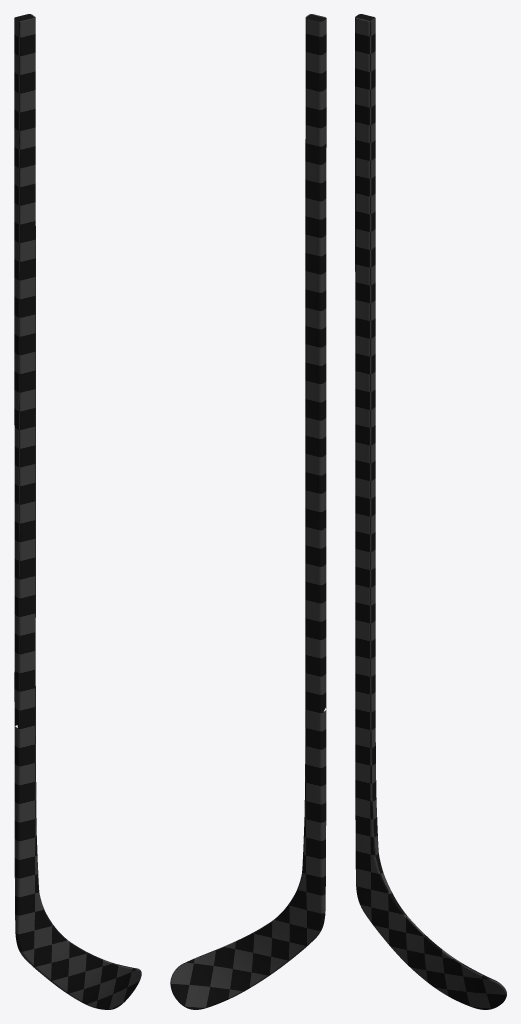
The picture shows the model from 3 angles, left to right: view 1: azimuth 30°, elevation 25°; view 2: azimuth 150°, elevation 25°; view 3: azimuth 330°, elevation 25°; orthographic projection. The views are drawn at different scales.
Visible parts, largest first — view 1: geometry_0; view 2: geometry_0; view 3: geometry_0.
Boxes of the visible parts, left/top/right/bottom form: geometry_0: left=14, top=14, right=141, bottom=1009; geometry_0: left=170, top=14, right=326, bottom=1009; geometry_0: left=355, top=14, right=506, bottom=1009.
Bounding box in the file's own units: 237 × 1650 × 65.43.
1 material, 1 textured.
